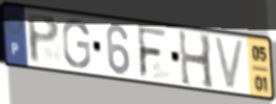6: (104, 22, 132, 77)
F: (136, 24, 170, 80)
G: (61, 19, 93, 71)
H: (176, 28, 216, 91)
P: (25, 12, 62, 66)
V: (212, 35, 247, 92)
